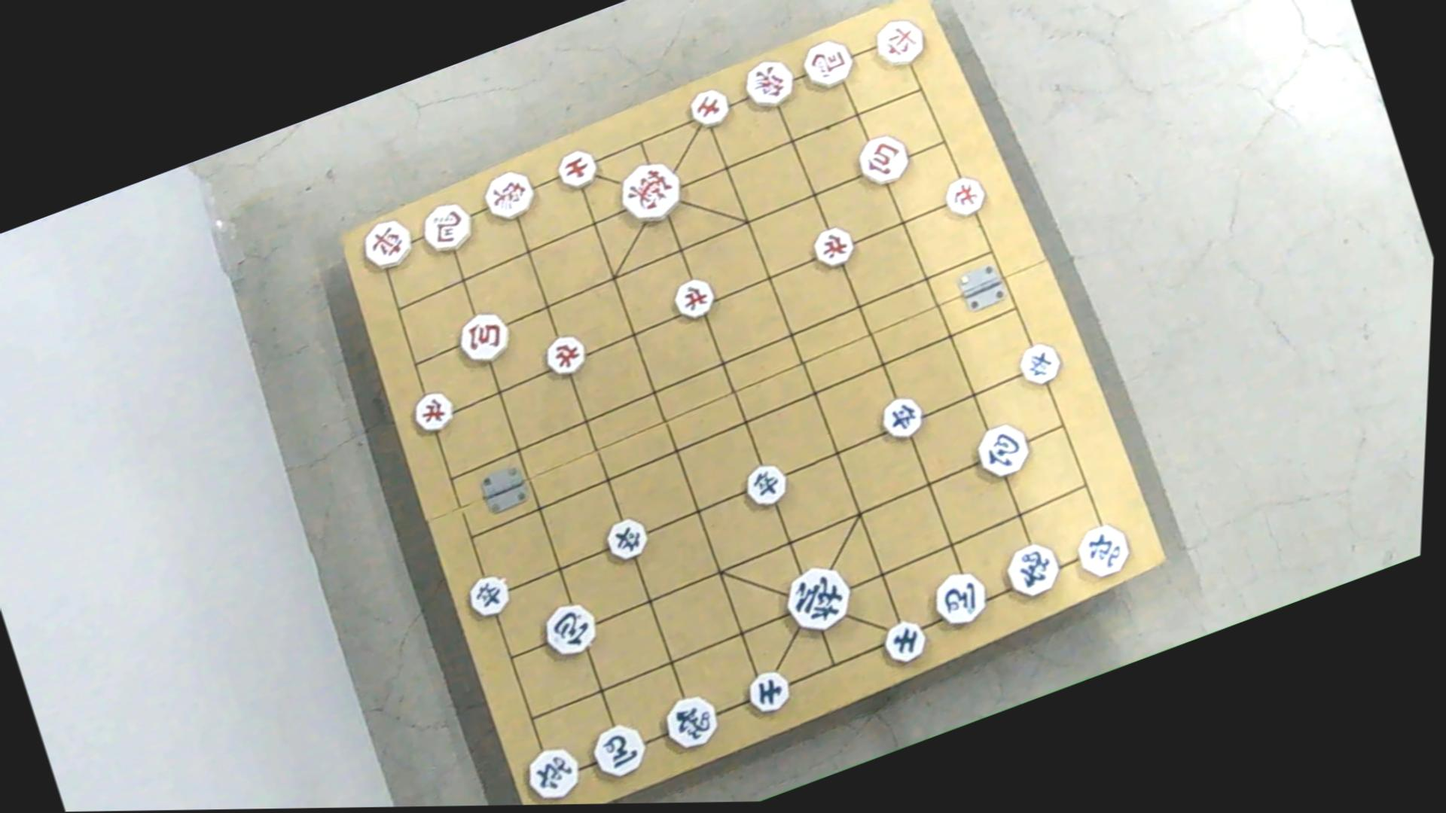cha_green: (517, 740, 587, 805), (1069, 519, 1135, 582)
cha_red: (356, 215, 418, 272), (871, 15, 931, 72)
jol_green: (737, 460, 792, 510), (600, 515, 654, 565), (465, 573, 519, 623), (874, 394, 927, 443), (1014, 340, 1066, 389)
jol_red: (807, 224, 861, 273), (668, 276, 720, 324), (541, 332, 593, 379), (409, 388, 461, 435), (940, 174, 991, 220)
ma_green: (926, 565, 993, 631), (586, 720, 652, 782)
ma_red: (798, 32, 861, 96), (413, 197, 477, 257)
po_green: (969, 418, 1036, 483), (540, 599, 605, 661)
po_red: (454, 309, 517, 367), (852, 130, 913, 188)
sa_green: (738, 665, 798, 720), (878, 617, 930, 667)
sa_red: (553, 145, 604, 191), (684, 87, 735, 132)
sang_green: (655, 686, 728, 759), (1000, 538, 1068, 604)
sang_red: (476, 165, 541, 226), (738, 55, 803, 113)
wang_green: (776, 561, 857, 638)
wang_red: (611, 157, 686, 228)
